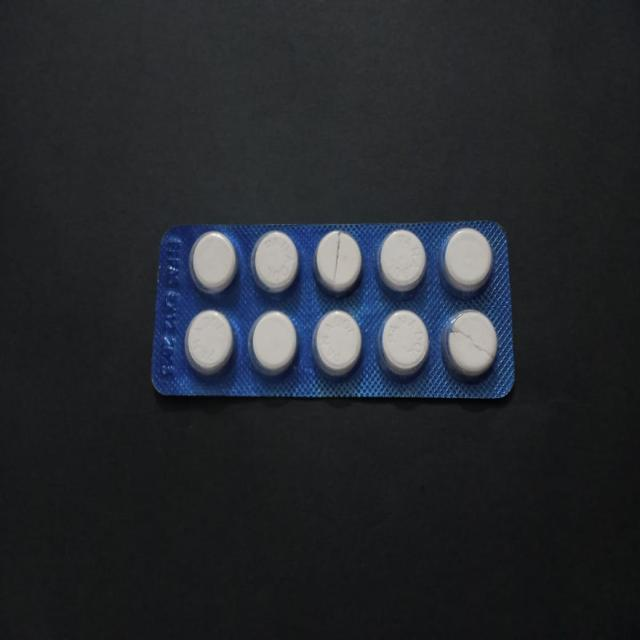defect: (441, 307, 500, 381), (312, 226, 364, 298)
